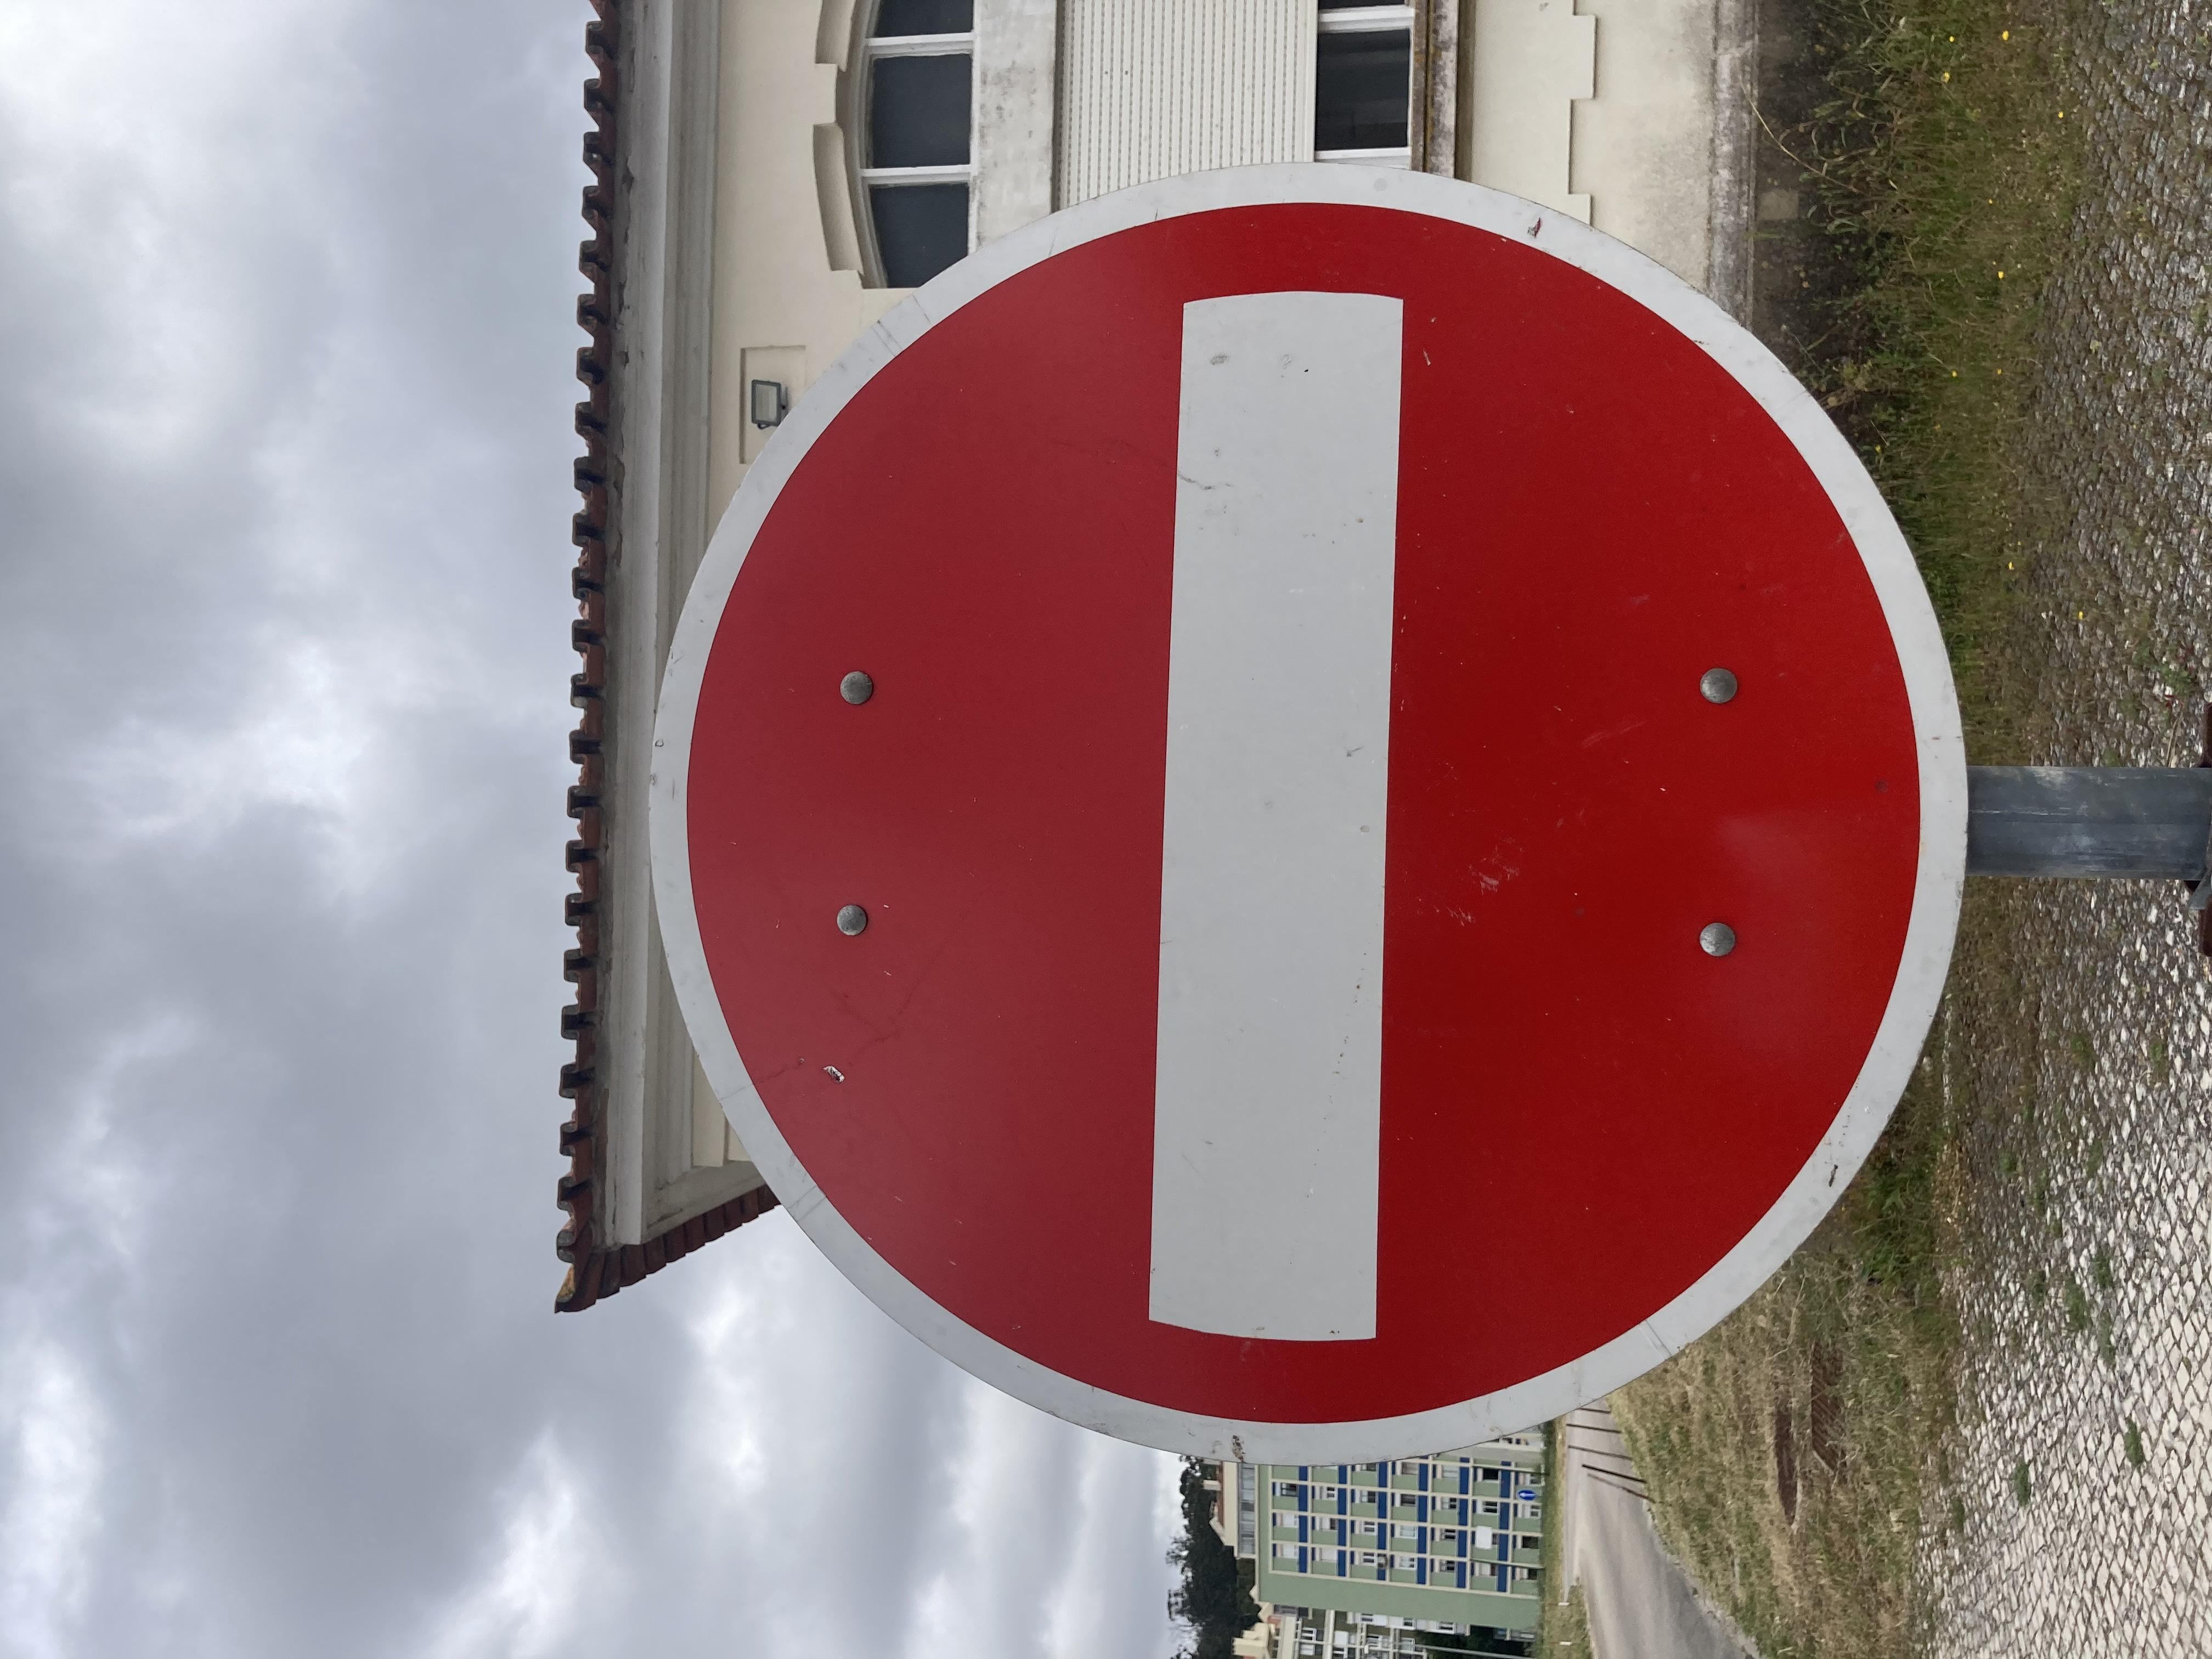Sentido proibido: (233, 460, 1998, 1530)
